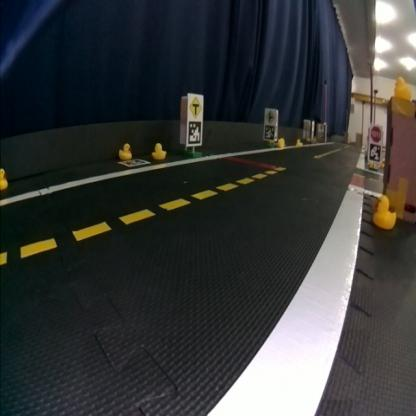Duckie: (376, 196, 398, 227), (394, 76, 410, 96), (122, 144, 132, 160), (155, 142, 165, 158), (1, 171, 7, 189), (280, 138, 286, 146), (297, 138, 302, 146)
Intersection sign: (190, 95, 203, 117), (266, 110, 275, 122)
QR code: (188, 123, 202, 144), (370, 145, 382, 161), (266, 125, 275, 139)
Stop sign: (371, 126, 382, 142)
